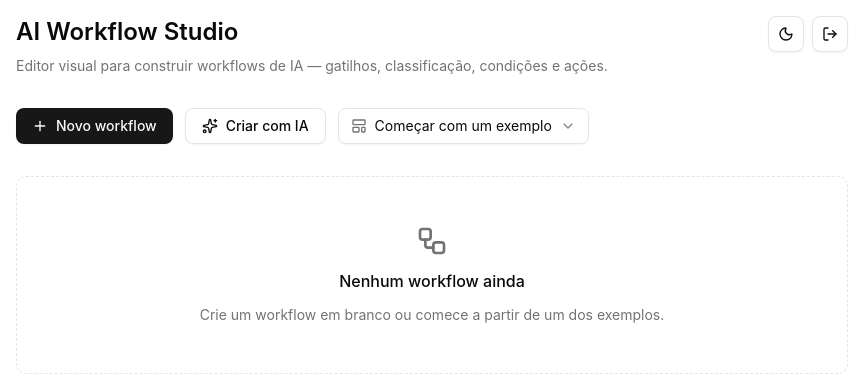
Scenario: WorkflowListPage › lista os 5 exemplos no seletor de templates
Click the dropdown labelled "Começar com um exemplo".
click(463, 126)  # box [338,108,589,144]
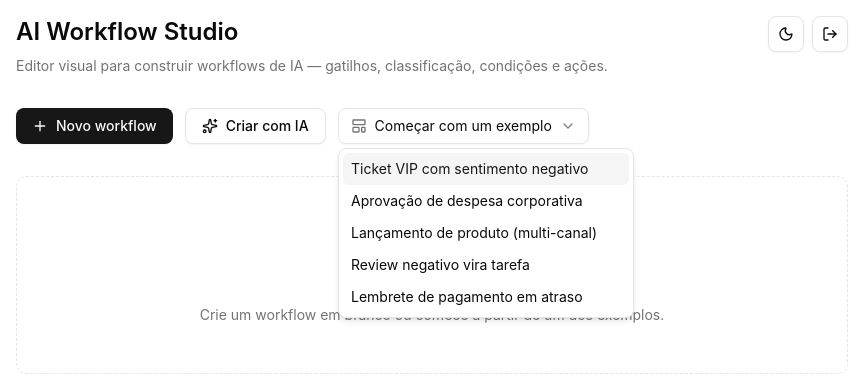
Expected: the option "Ticket VIP com sentimento negativo" is shown, [343,153,629,185]
Expected: the option "Aprovação de despesa corporativa" is shown, [351,192,583,209]
Expected: the option "Lançamento de produto (multi-canal)" is shown, [351,224,597,241]
